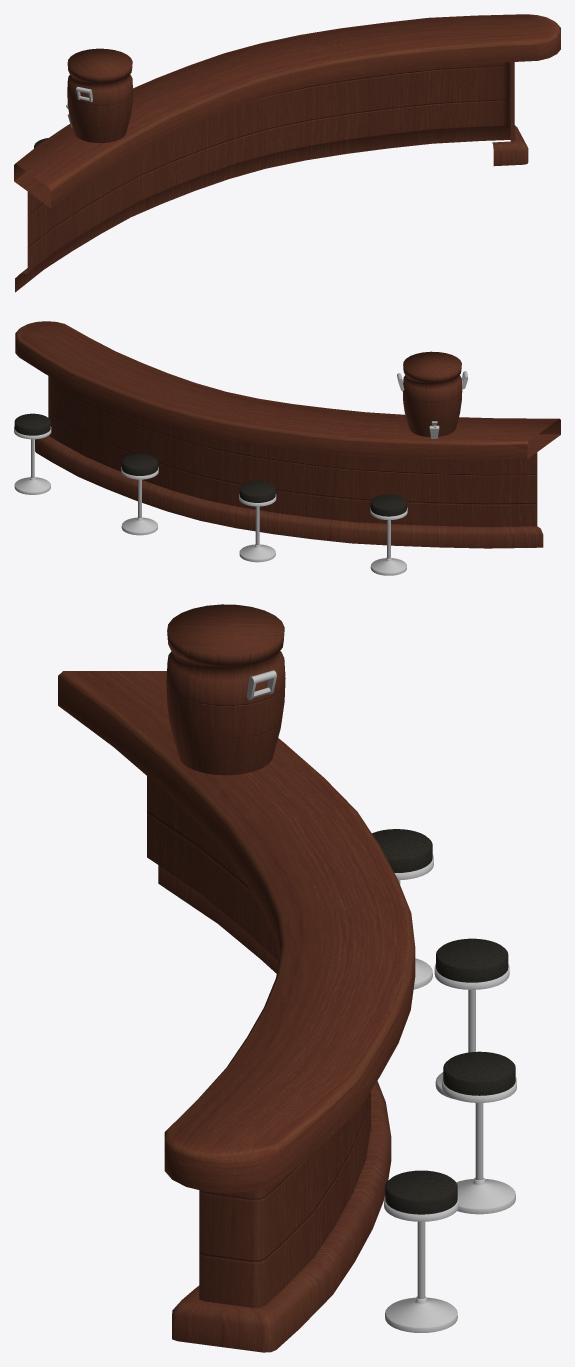
The model's file is mesh_batai.FBX.
3 renders of one model, top to bottom at view 1: azimuth 30°, elevation 25°; view 2: azimuth 150°, elevation 25°; view 3: azimuth 270°, elevation 25°, orthographic. The views are drawn at different scales.
Visible parts, largest first — view 1: batai; view 2: batai; view 3: batai.
Boxes of the visible parts, x1=… form: batai: x1=14, y1=14, x2=560, y2=292; batai: x1=14, y1=321, x2=560, y2=575; batai: x1=58, y1=604, x2=516, y2=1352.
Size of the model in its own units: 212 by 69.09 by 83.12.
Materials: 1 (1 with a texture image).
